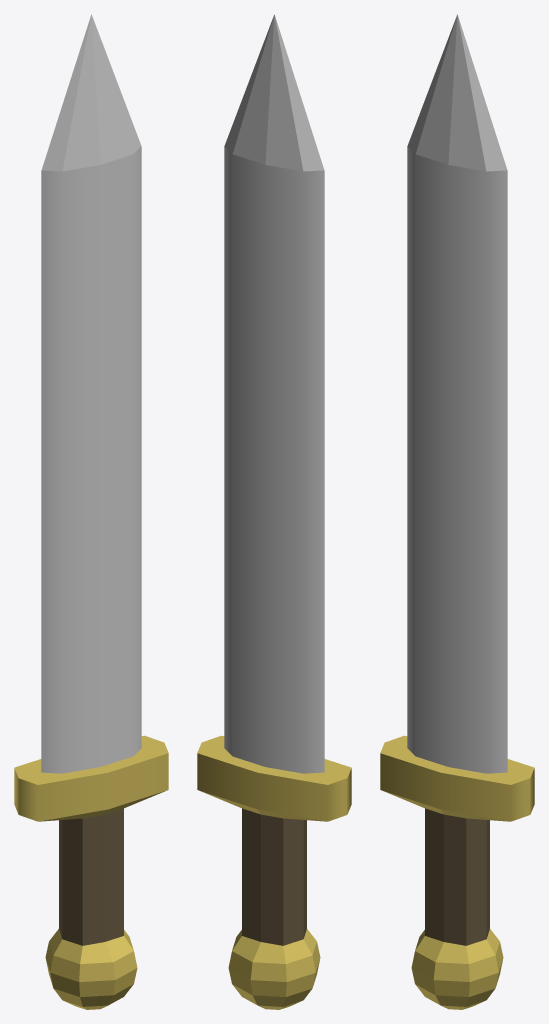
Rendered from Sword.fbx.
The picture shows the model from 3 angles, left to right: view 1: azimuth 30°, elevation 25°; view 2: azimuth 150°, elevation 25°; view 3: azimuth 330°, elevation 25°; orthographic projection.
Parts seen in each view (by area): view 1: Sword; view 2: Sword; view 3: Sword.
Part boxes in pixels (x1,y1,x2,y2): Sword: (14,14,168,1009); Sword: (197,14,351,1009); Sword: (380,14,534,1009).
Bounding box in the file's own units: 3.54 × 22.99 × 2.
